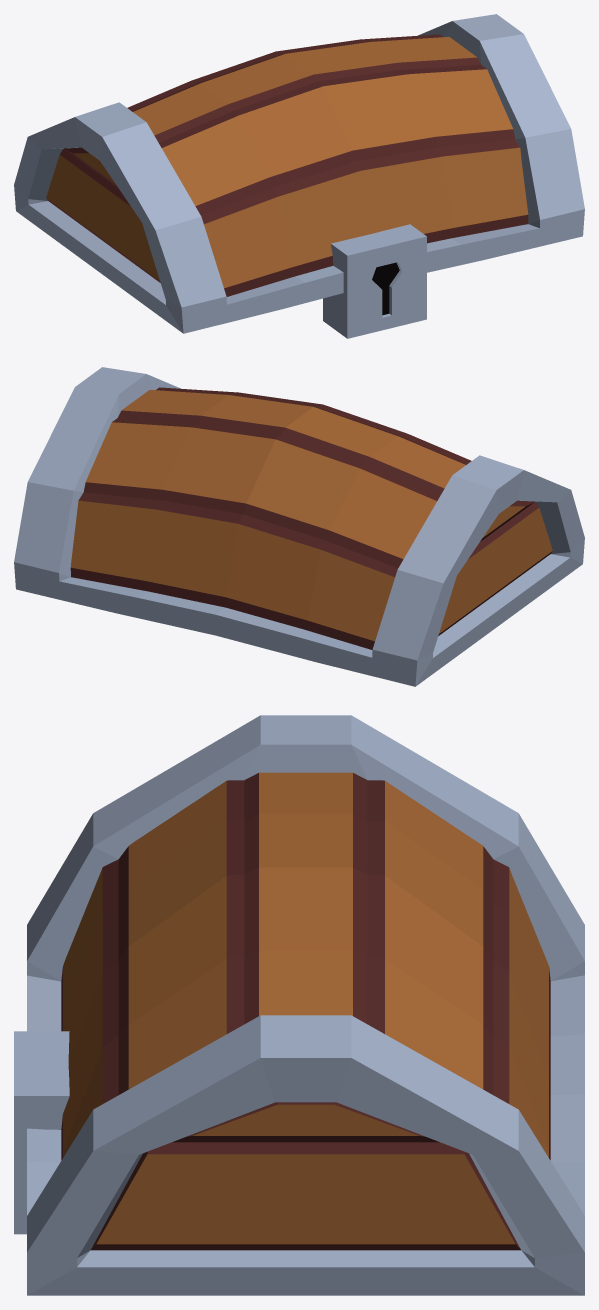
File: GoalChest_Lid.fbx
3 renders of one model, top to bottom at view 1: azimuth 30°, elevation 25°; view 2: azimuth 150°, elevation 25°; view 3: azimuth 270°, elevation 25°, orthographic. The views are drawn at different scales.
Parts seen in each view (by area): view 1: EXPORT_GoalChest_Lid; view 2: EXPORT_GoalChest_Lid; view 3: EXPORT_GoalChest_Lid.
Boxes of the visible parts, x1,y1,x2,y2 form: EXPORT_GoalChest_Lid: [14, 14, 584, 338]; EXPORT_GoalChest_Lid: [14, 367, 584, 686]; EXPORT_GoalChest_Lid: [14, 715, 584, 1295].
Bounding box in the file's own units: 135 × 61.62 × 95.39.
